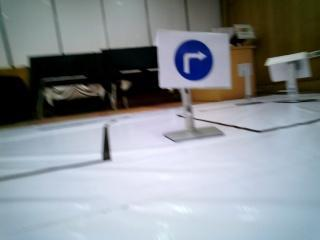right: (163, 35, 231, 87)
